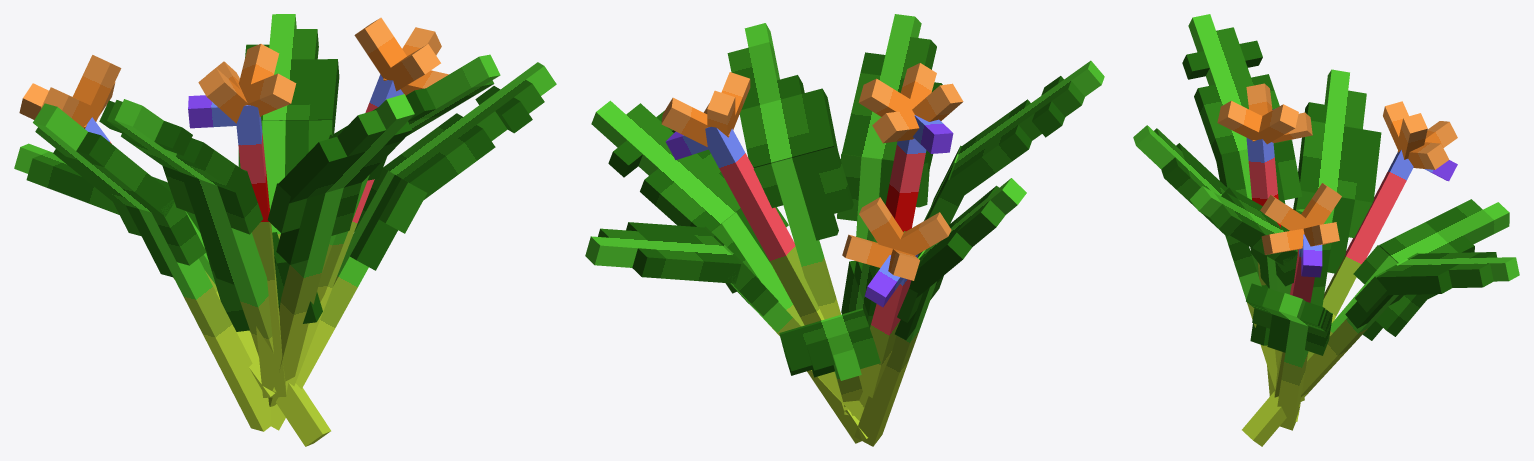
File: PN-BirdsOfParadisePlant.gltf
3 views of the same model, side by side, from view 1: azimuth 30°, elevation 25°; view 2: azimuth 150°, elevation 25°; view 3: azimuth 270°, elevation 25° (orthographic). The views are drawn at different scales.
Visible parts, largest first — view 1: l05-00-Local, l00-00-Local, l00-01$$(2)-Local, l01-00-Local, l02-00-Local, l00-01$$(1)-Local, bird02-00-Local, l00-01$$(5)-Local, l00-01-Local, l00-01$$(6)-Local, l00-01$$(3)-Local, l06-00-Local (+12 smaller); view 2: l00-01$$(2)-Local, l00-01$$(3)-Local, l03-00-Local, l00-01$$(6)-Local, bird00-00-Local, l00-01-Local, l00-01$$(1)-Local, l00-01$$(4)-Local, l00-01$$(5)-Local, l05-00-Local, l02-00-Local, bird02-00-Local (+12 smaller); view 3: l00-01$$(5)-Local, l00-01-Local, l00-01$$(6)-Local, l00-01$$(4)-Local, bird01-00-Local, l04-00-Local, l02-00-Local, l00-01$$(3)-Local, l06-00-Local, l00-01$$(1)-Local, l00-00-Local, bird00-01$$(2)-Local (+12 smaller).
Part boxes in pixels (x1=…): l05-00-Local: x1=113, y1=199, x2=270, y2=431; l00-00-Local: x1=162, y1=165, x2=279, y2=356; l00-01$$(2)-Local: x1=383, y1=62, x2=556, y2=199; l01-00-Local: x1=267, y1=182, x2=361, y2=406; l02-00-Local: x1=271, y1=167, x2=427, y2=430; l00-01$$(1)-Local: x1=278, y1=94, x2=414, y2=203; bird02-00-Local: x1=188, y1=95, x2=286, y2=397; l00-01$$(5)-Local: x1=33, y1=103, x2=174, y2=216; l00-01-Local: x1=99, y1=99, x2=246, y2=193; l00-01$$(6)-Local: x1=245, y1=14, x2=339, y2=133; l00-01$$(3)-Local: x1=333, y1=54, x2=500, y2=136; l06-00-Local: x1=238, y1=120, x2=333, y2=239; l00-01$$(2)-Local: x1=591, y1=100, x2=740, y2=231; l00-01$$(3)-Local: x1=727, y1=23, x2=838, y2=167; l03-00-Local: x1=753, y1=145, x2=862, y2=410; l00-01$$(6)-Local: x1=585, y1=222, x2=741, y2=283; bird00-00-Local: x1=665, y1=126, x2=824, y2=325; l00-01-Local: x1=949, y1=60, x2=1104, y2=194; l00-01$$(1)-Local: x1=841, y1=14, x2=942, y2=171; l00-01$$(4)-Local: x1=780, y1=310, x2=880, y2=380; l00-01$$(5)-Local: x1=909, y1=178, x2=1026, y2=297; l05-00-Local: x1=854, y1=250, x2=943, y2=446; l02-00-Local: x1=711, y1=207, x2=867, y2=443; bird02-00-Local: x1=885, y1=115, x2=953, y2=232; l00-01$$(5)-Local: x1=1298, y1=69, x2=1381, y2=202; l00-01-Local: x1=1182, y1=14, x2=1291, y2=162; l00-01$$(6)-Local: x1=1376, y1=252, x2=1519, y2=295; l00-01$$(4)-Local: x1=1379, y1=199, x2=1509, y2=299; bird01-00-Local: x1=1322, y1=150, x2=1457, y2=322; l04-00-Local: x1=1242, y1=245, x2=1431, y2=446; l02-00-Local: x1=1252, y1=308, x2=1332, y2=430; l00-01$$(3)-Local: x1=1190, y1=186, x2=1297, y2=265; l06-00-Local: x1=1301, y1=253, x2=1418, y2=396; l00-01$$(1)-Local: x1=1133, y1=125, x2=1228, y2=236; l00-00-Local: x1=1216, y1=140, x2=1302, y2=276; bird00-01$$(2)-Local: x1=1217, y1=100, x2=1298, y2=144.
Size of the model in its own units: 24.28 by 19.93 by 20.26.
24 materials, 24 textured.
